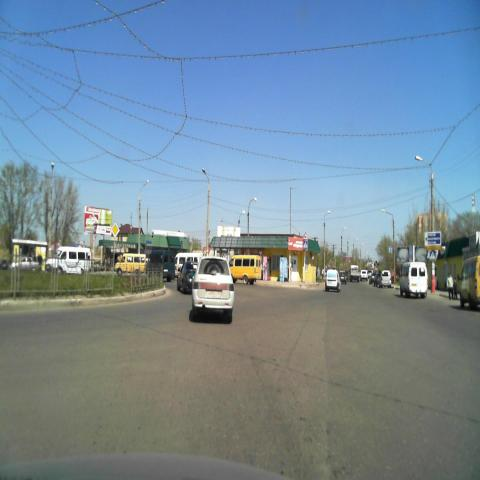1_2: (303, 231, 309, 239)
2_1: (111, 223, 119, 240)
5_19_1: (302, 239, 308, 251)
